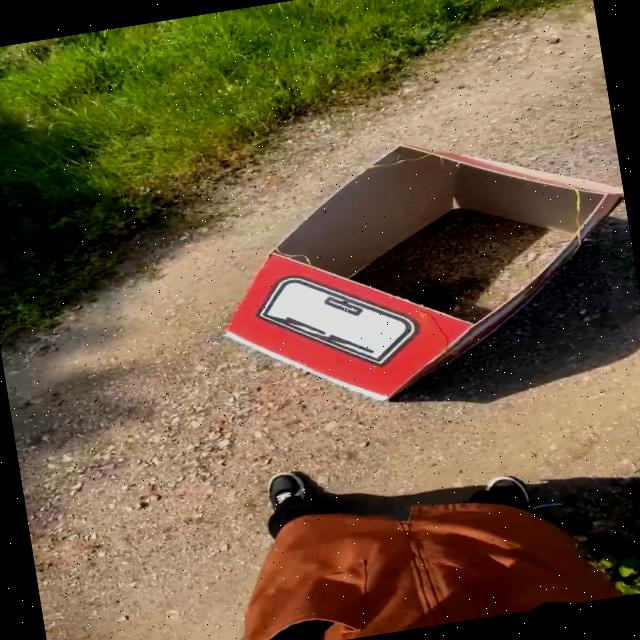red_car: (150, 98, 640, 464)
